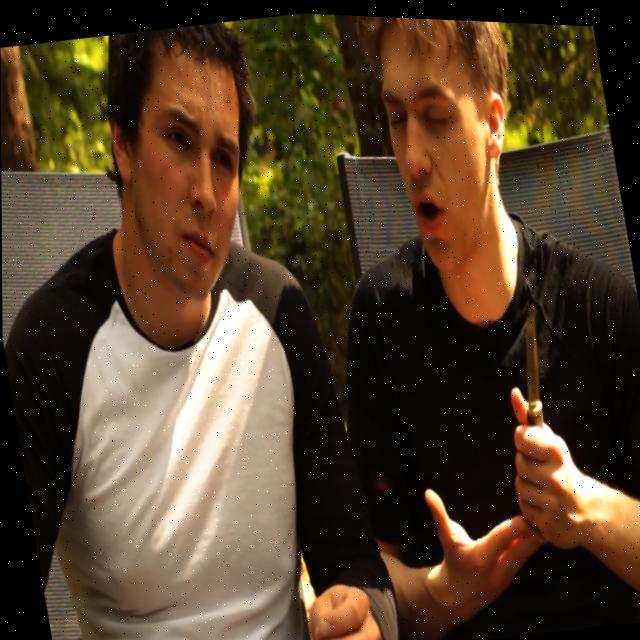knife: (507, 294, 552, 424)
